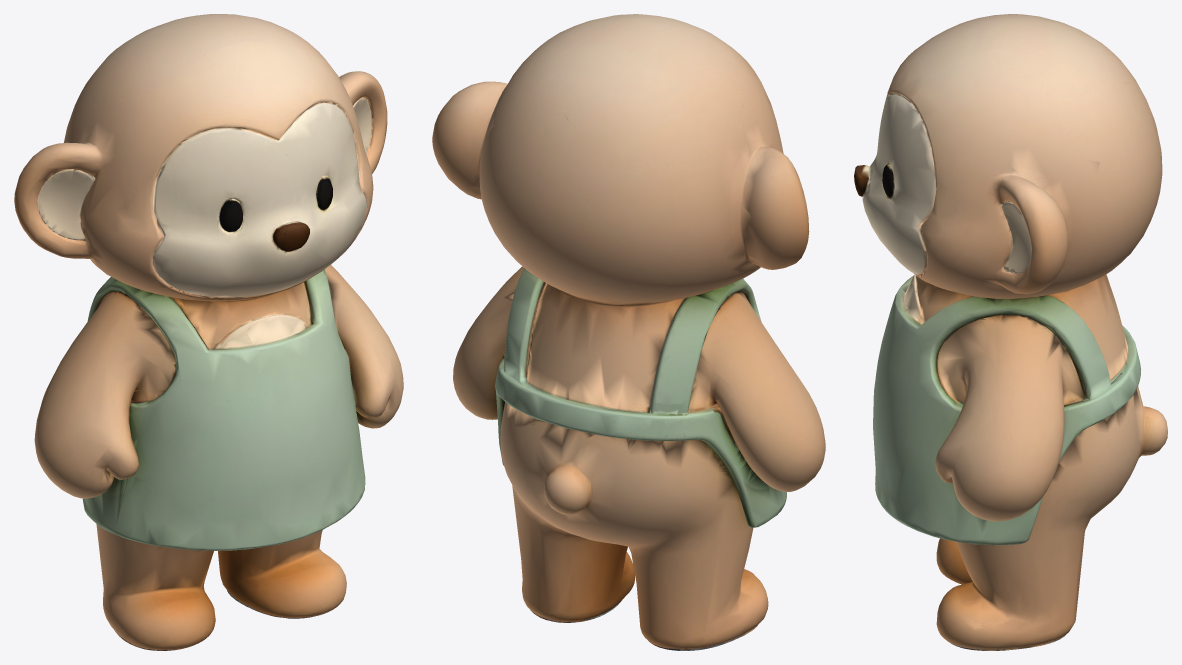
The model's file is bear.glb.
3 renders of one model, left to right at view 1: azimuth 30°, elevation 25°; view 2: azimuth 150°, elevation 25°; view 3: azimuth 270°, elevation 25°, orthographic. The views are drawn at different scales.
Visible parts, largest first — view 1: node_0; view 2: node_0; view 3: node_0.
Boxes of the visible parts, box(x1,y1,x2,y2) form: node_0: box(14, 14, 403, 650); node_0: box(432, 14, 825, 650); node_0: box(854, 14, 1167, 650).
Bounding box in the file's own units: 0.7483 × 1.12 × 0.5566.
Materials: 1 (1 with a texture image).
